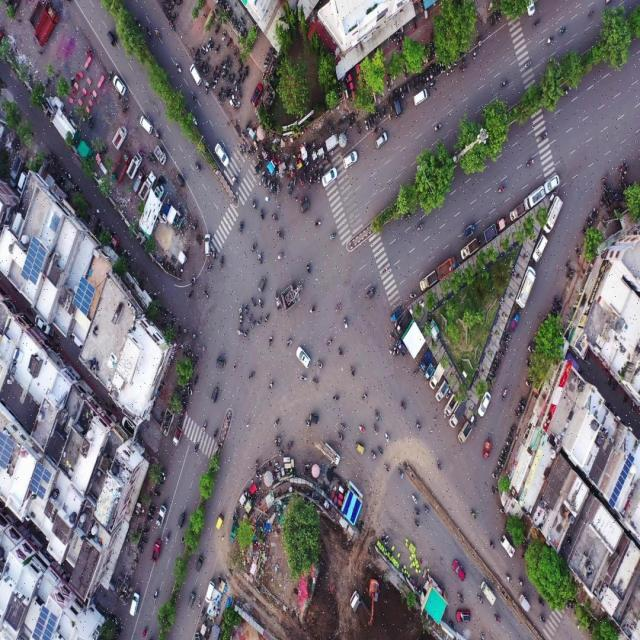3W: (481, 439, 494, 463), (462, 220, 477, 238), (255, 277, 268, 295), (195, 555, 206, 576), (176, 511, 187, 531), (106, 30, 117, 49), (174, 172, 186, 189), (214, 514, 226, 531), (354, 440, 365, 458), (214, 356, 226, 372), (187, 588, 196, 609), (364, 287, 377, 301), (211, 386, 220, 404), (309, 410, 319, 425), (301, 201, 311, 213)
Cars: (544, 172, 563, 195), (533, 233, 548, 262), (451, 558, 468, 583), (296, 344, 311, 371), (214, 144, 231, 167), (479, 390, 492, 418), (186, 63, 202, 85), (129, 589, 141, 618), (455, 607, 472, 627), (501, 534, 515, 558), (138, 116, 155, 135), (321, 168, 337, 188), (250, 82, 263, 106), (342, 150, 358, 169), (391, 87, 401, 117), (113, 74, 126, 96), (375, 131, 389, 150), (413, 89, 427, 108), (205, 580, 215, 603), (204, 232, 211, 260)
LCV: (515, 267, 536, 307), (543, 198, 562, 234), (524, 185, 546, 207), (140, 173, 156, 200), (442, 393, 459, 418), (419, 270, 438, 292), (323, 443, 341, 465), (111, 125, 128, 148), (438, 256, 455, 279), (154, 141, 169, 166), (458, 421, 473, 446), (128, 154, 142, 180), (430, 361, 443, 389), (131, 167, 145, 193), (150, 537, 162, 566), (481, 581, 496, 604), (460, 240, 478, 259), (508, 202, 526, 221), (156, 504, 168, 532), (325, 132, 339, 150), (172, 426, 182, 448), (511, 313, 521, 333), (388, 308, 401, 322), (397, 340, 407, 357), (425, 364, 434, 380)
M2W: (455, 589, 467, 604), (522, 58, 534, 71), (267, 330, 275, 349), (267, 377, 275, 395), (467, 509, 479, 521), (324, 335, 335, 348), (410, 493, 420, 507), (397, 400, 408, 412), (525, 157, 535, 170), (218, 253, 225, 271), (306, 259, 313, 277), (517, 577, 526, 591), (494, 613, 503, 627), (475, 593, 484, 607), (336, 345, 344, 360), (248, 367, 256, 382), (270, 212, 280, 224), (194, 160, 202, 175), (536, 595, 546, 607), (557, 25, 567, 37), (538, 131, 548, 143), (317, 358, 325, 373), (501, 387, 509, 402), (332, 390, 339, 407), (497, 183, 506, 196), (309, 302, 316, 318), (141, 624, 148, 640), (133, 16, 142, 28), (272, 418, 281, 430), (563, 258, 572, 270), (349, 365, 356, 380), (505, 570, 512, 585), (201, 419, 208, 434), (334, 303, 342, 316), (257, 251, 265, 264), (488, 540, 496, 553), (377, 444, 385, 457), (286, 335, 292, 352), (278, 248, 284, 265), (423, 502, 429, 519), (416, 222, 425, 233), (500, 78, 509, 89), (545, 34, 554, 45), (491, 472, 500, 483), (436, 458, 443, 472), (153, 588, 160, 602), (343, 315, 349, 331), (231, 174, 239, 186), (361, 389, 368, 402), (372, 423, 379, 436), (340, 420, 347, 433), (314, 218, 321, 231), (539, 612, 546, 625), (191, 91, 198, 104), (359, 421, 365, 436), (371, 448, 377, 463), (251, 242, 257, 257), (259, 207, 265, 222), (409, 289, 418, 299), (380, 267, 390, 276), (433, 123, 442, 133), (164, 531, 170, 546), (213, 426, 219, 441), (122, 104, 131, 114), (428, 79, 437, 89), (399, 86, 405, 101), (414, 518, 422, 529), (415, 419, 422, 431), (238, 222, 244, 236), (193, 441, 199, 455), (107, 69, 113, 83), (176, 61, 182, 75), (155, 128, 162, 140), (276, 231, 285, 240), (205, 264, 214, 273), (413, 507, 421, 517), (375, 409, 381, 422), (258, 296, 264, 309), (257, 316, 263, 329), (146, 26, 152, 39), (155, 27, 161, 40), (200, 607, 206, 620), (472, 49, 478, 62), (237, 303, 243, 316), (251, 199, 257, 212), (214, 22, 220, 35), (237, 328, 244, 339), (330, 231, 337, 242), (533, 17, 540, 28), (300, 374, 306, 386), (398, 467, 404, 479), (238, 315, 244, 327), (233, 46, 239, 58), (194, 47, 200, 59), (86, 113, 92, 125), (501, 344, 509, 353), (574, 245, 580, 257), (405, 212, 412, 222), (383, 463, 390, 473), (498, 349, 505, 359), (506, 431, 513, 441), (513, 412, 520, 422), (478, 36, 483, 50), (493, 11, 498, 25), (384, 431, 390, 442), (265, 311, 271, 322), (298, 176, 304, 187), (209, 40, 215, 51), (212, 65, 218, 76), (70, 76, 75, 89), (251, 294, 255, 310), (458, 66, 467, 73), (524, 380, 531, 389), (170, 12, 177, 21), (338, 431, 343, 443), (244, 328, 249, 340), (244, 302, 248, 317), (213, 247, 217, 262), (205, 66, 211, 76), (205, 81, 209, 96), (212, 80, 218, 90), (217, 87, 223, 97), (150, 153, 156, 163), (179, 537, 185, 547), (138, 543, 143, 555), (410, 78, 415, 90), (121, 97, 129, 104), (478, 232, 482, 246), (351, 114, 355, 128), (168, 22, 175, 30), (519, 402, 526, 410), (565, 273, 573, 280), (215, 43, 220, 54), (225, 54, 230, 65), (552, 295, 557, 306), (402, 84, 407, 95), (219, 60, 225, 69), (223, 86, 229, 95), (142, 529, 151, 535), (140, 539, 149, 545), (251, 318, 255, 331), (382, 105, 386, 118), (303, 171, 307, 184), (425, 71, 429, 84), (324, 155, 329, 165), (222, 31, 227, 41), (140, 150, 147, 157), (147, 511, 154, 518), (509, 425, 516, 432), (357, 124, 361, 136), (364, 119, 368, 131), (293, 175, 297, 187), (244, 65, 248, 77), (234, 80, 238, 92), (207, 36, 211, 48), (199, 49, 207, 55), (502, 446, 510, 452), (568, 267, 574, 275), (549, 309, 557, 315), (501, 339, 509, 345), (407, 81, 411, 93), (490, 17, 494, 29), (288, 187, 293, 196), (288, 179, 293, 188), (348, 118, 352, 129), (374, 122, 378, 133), (320, 163, 324, 174), (381, 531, 385, 542), (416, 77, 420, 88), (429, 67, 433, 78), (461, 53, 465, 64), (378, 107, 381, 121), (314, 170, 317, 184), (203, 46, 209, 53), (153, 492, 160, 498), (148, 507, 155, 513), (231, 515, 237, 522), (498, 461, 504, 468), (498, 457, 505, 463), (505, 440, 511, 447), (239, 63, 243, 73), (227, 38, 231, 48), (265, 174, 268, 187), (368, 118, 371, 130), (277, 182, 280, 194), (273, 182, 276, 194), (262, 171, 265, 183), (242, 144, 245, 156), (226, 75, 230, 84), (228, 61, 232, 70), (496, 467, 502, 473), (494, 358, 500, 364), (420, 75, 423, 87), (423, 74, 426, 86), (146, 156, 151, 163), (492, 363, 499, 368), (240, 145, 243, 156), (238, 88, 241, 99), (231, 73, 234, 84), (91, 118, 94, 129), (437, 63, 440, 74), (370, 116, 373, 126), (235, 508, 238, 518), (505, 331, 511, 336), (387, 81, 390, 91), (503, 336, 510, 340), (241, 73, 244, 82), (238, 75, 241, 84), (385, 535, 388, 544), (318, 172, 320, 184), (433, 67, 435, 79), (435, 65, 437, 77)
Truck: (349, 591, 374, 631), (35, 6, 57, 42), (112, 151, 130, 183)
